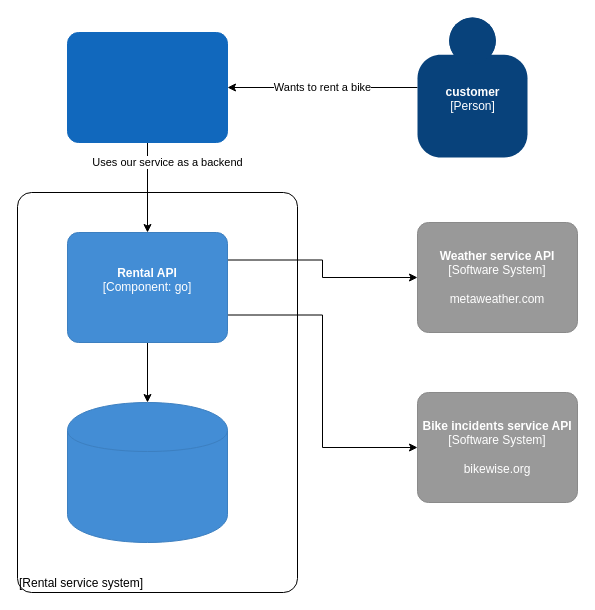
Image size: 595x610. Some labels were removed from this diagram. The shapes that lost their labels are listed below. From the top down, each one's centre as x and y in pixels, then its label:
At [147,87]: "Tenant System [Software System]".
At [147,472]: "Database [Container: BoltDB] Local database".
